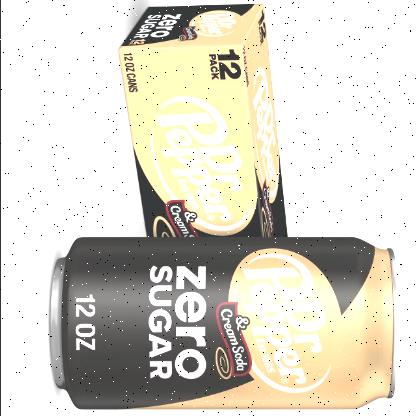Can: (38, 233, 402, 413)
